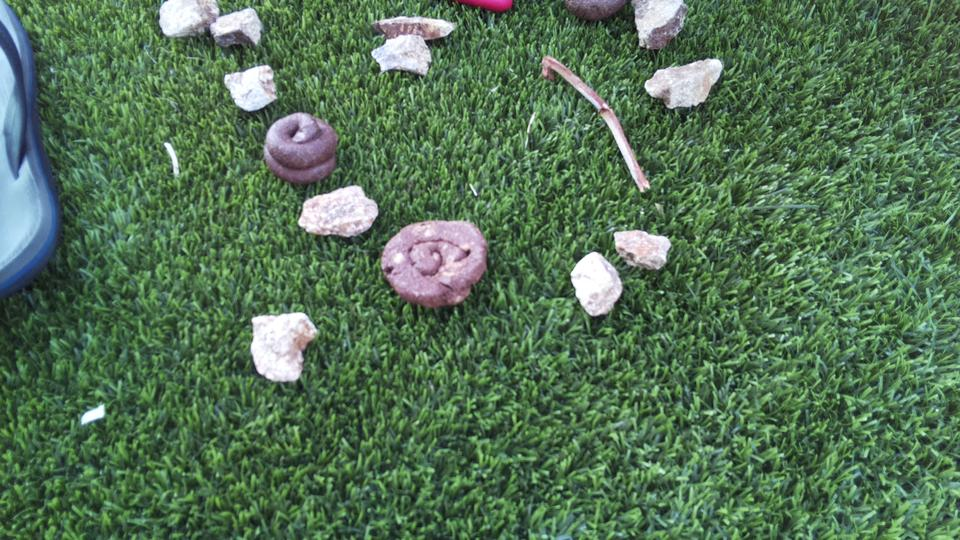poop: (381, 217, 490, 309), (260, 112, 347, 182)
